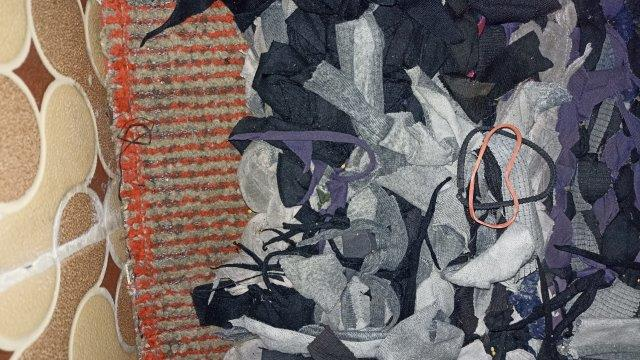karet: (457, 123, 557, 231)
